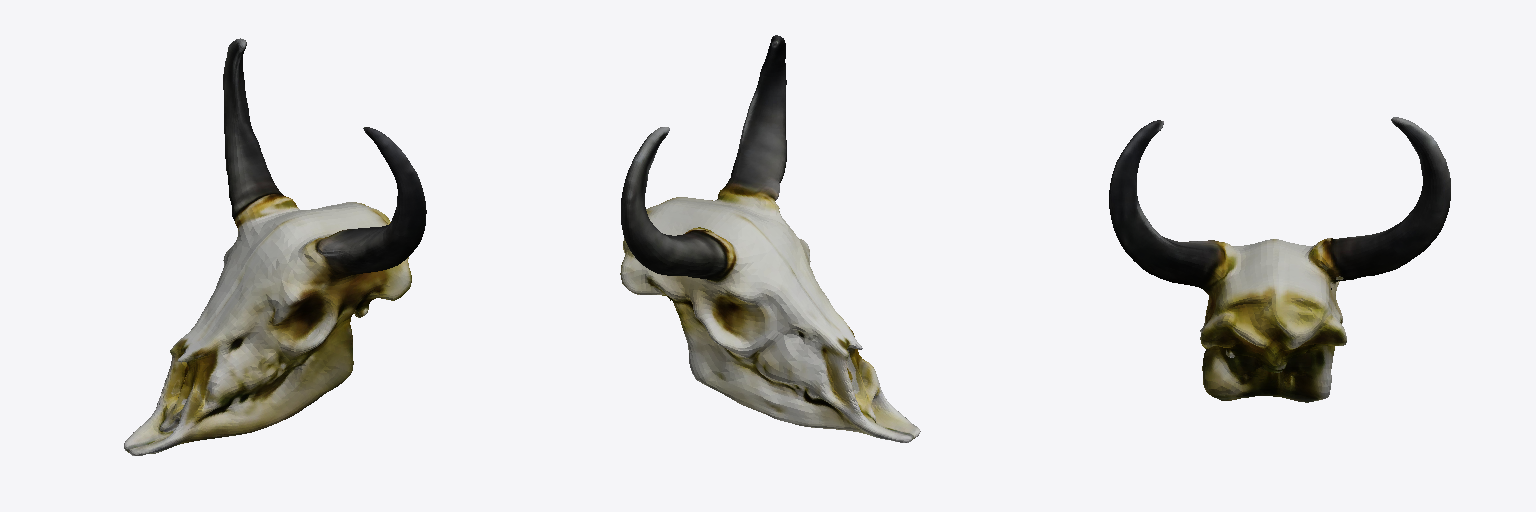
3 views of the same model, side by side, from view 1: azimuth 30°, elevation 25°; view 2: azimuth 150°, elevation 25°; view 3: azimuth 270°, elevation 25° (orthographic).
Visible parts, largest first — view 1: mesh; view 2: mesh; view 3: mesh.
Part boxes in pixels (bbox=[...]): mesh: bbox=[124, 38, 426, 455]; mesh: bbox=[620, 35, 920, 442]; mesh: bbox=[1109, 117, 1450, 402].
Bounding box in the file's own units: 0.8948 × 0.9982 × 0.9639.
Materials: 1 (1 with a texture image).